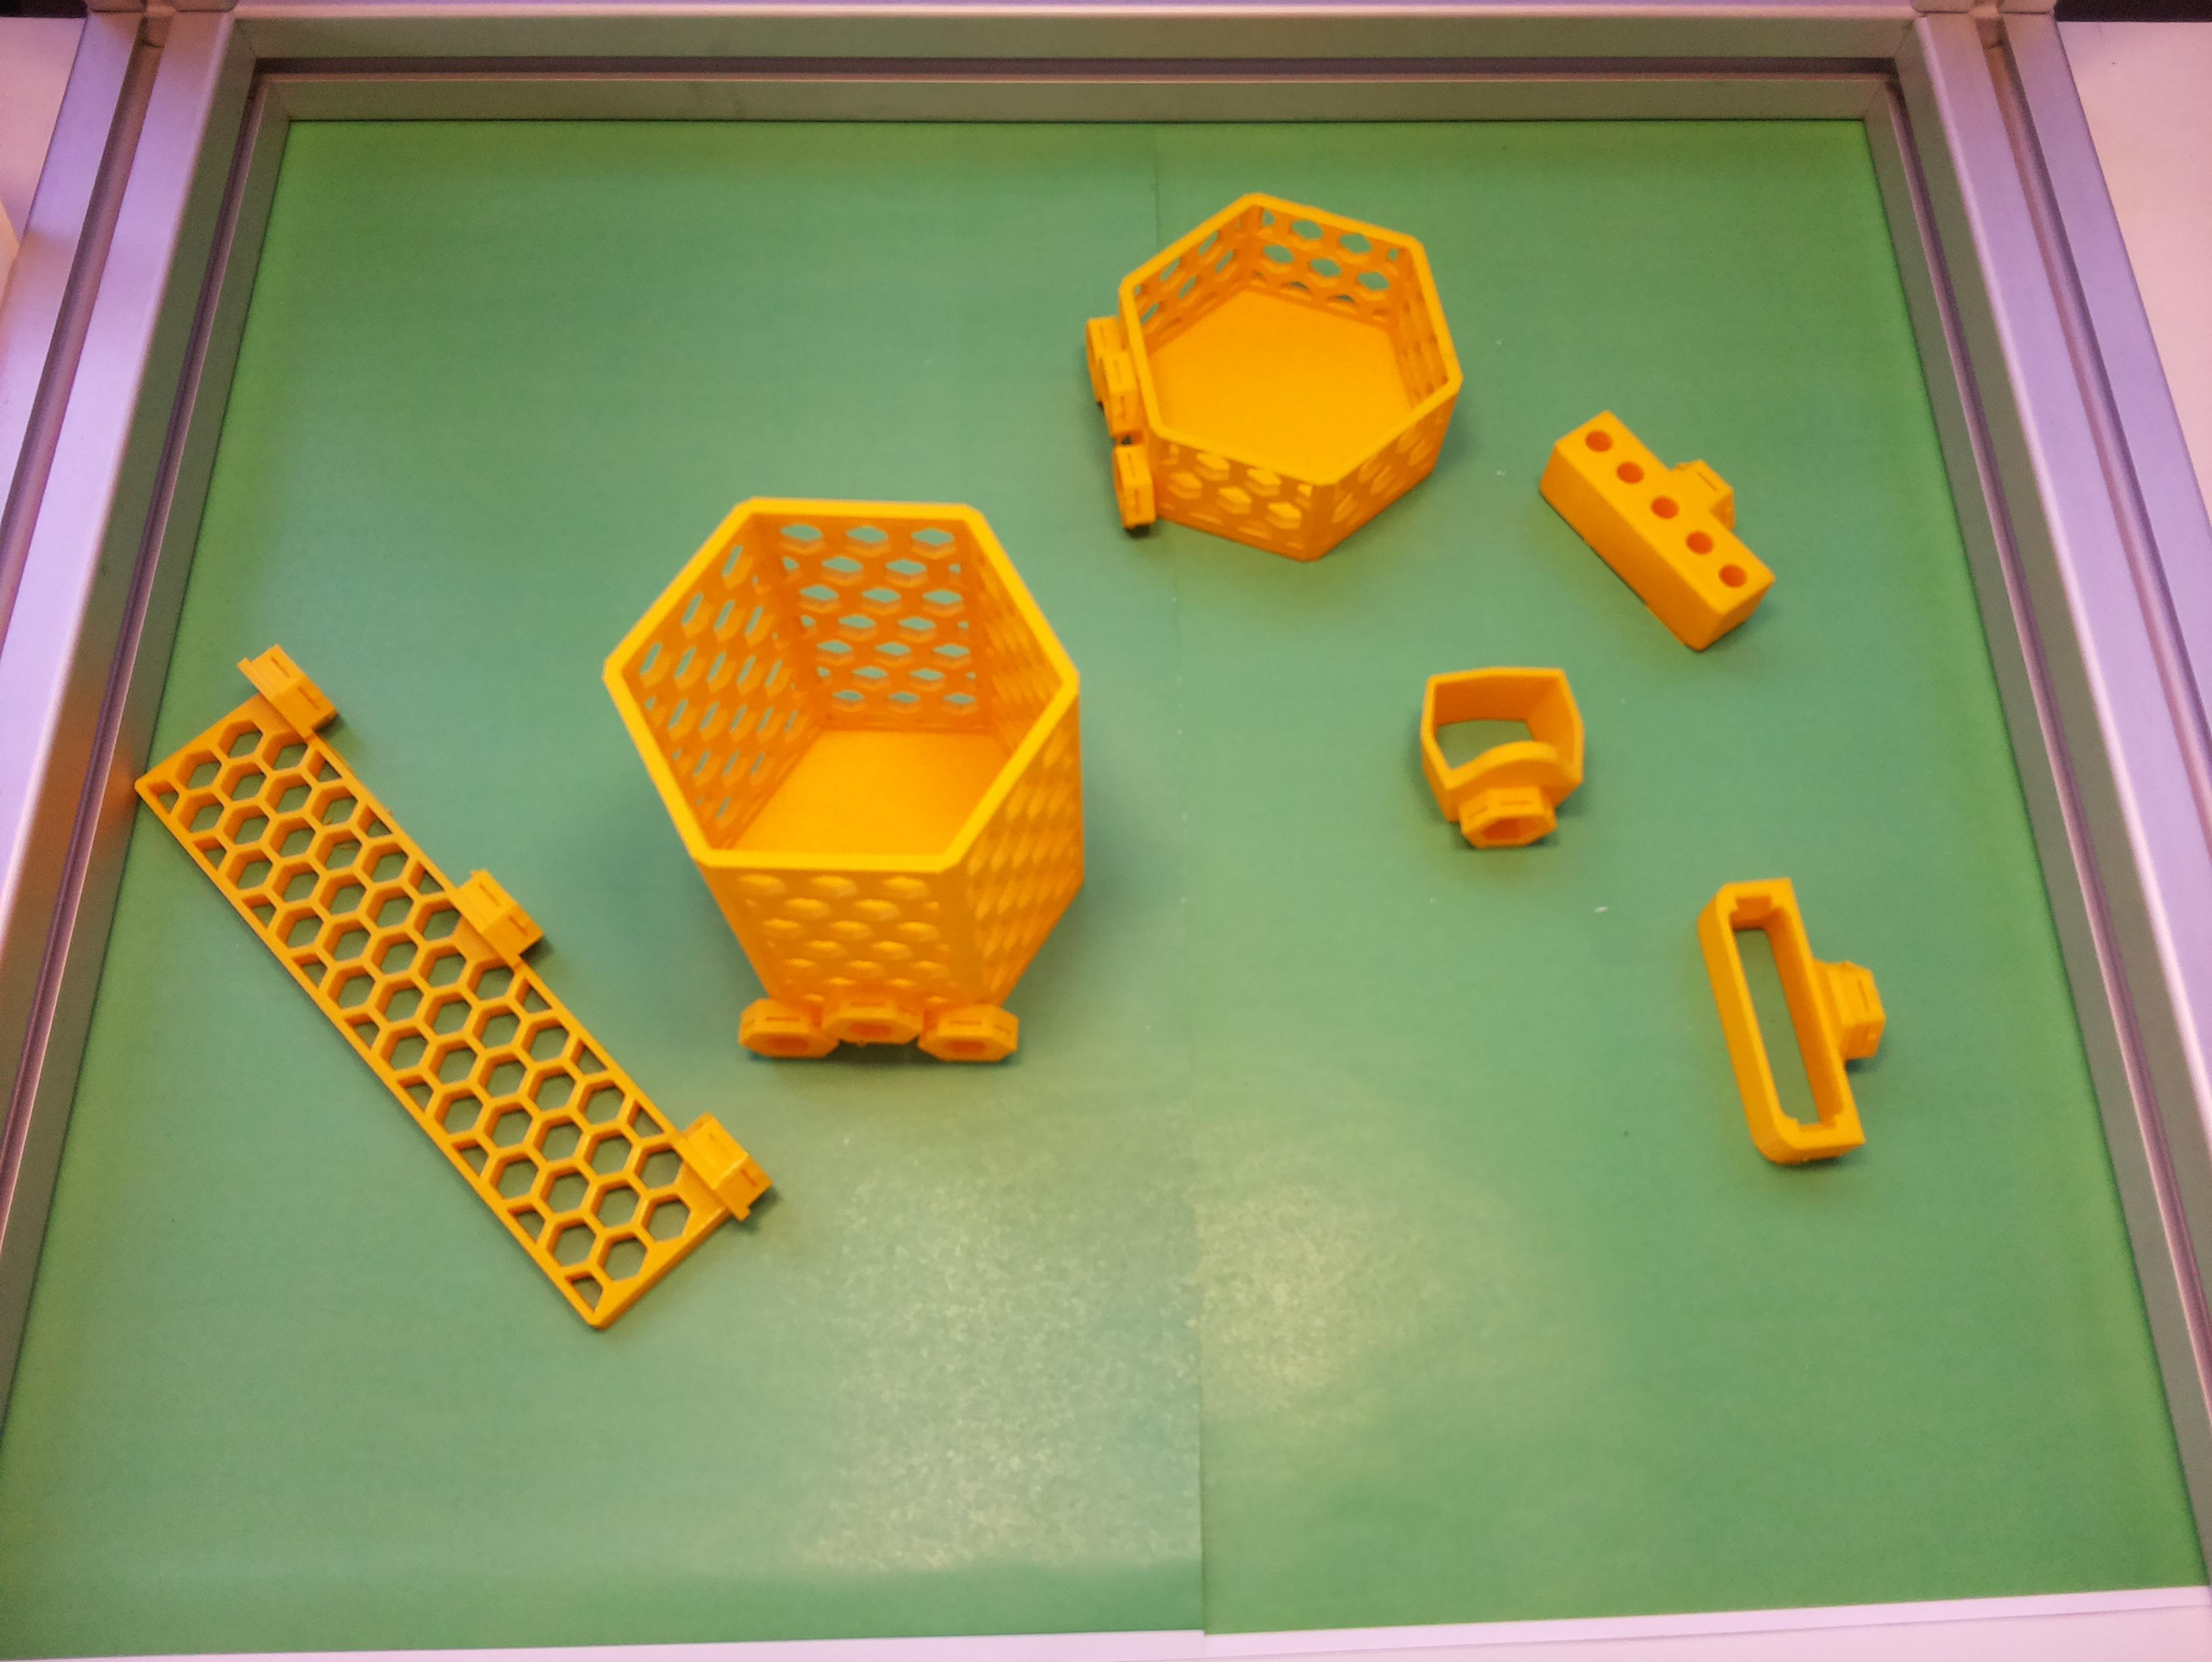bit_holder: (1521, 377, 1803, 663)
bottle_holder: (1046, 152, 1498, 608)
cup_holder: (601, 492, 1086, 1068)
cutter_holder: (1678, 850, 1922, 1180)
scissor_holder: (1414, 662, 1590, 852)
tool_holder: (103, 632, 777, 1344)
